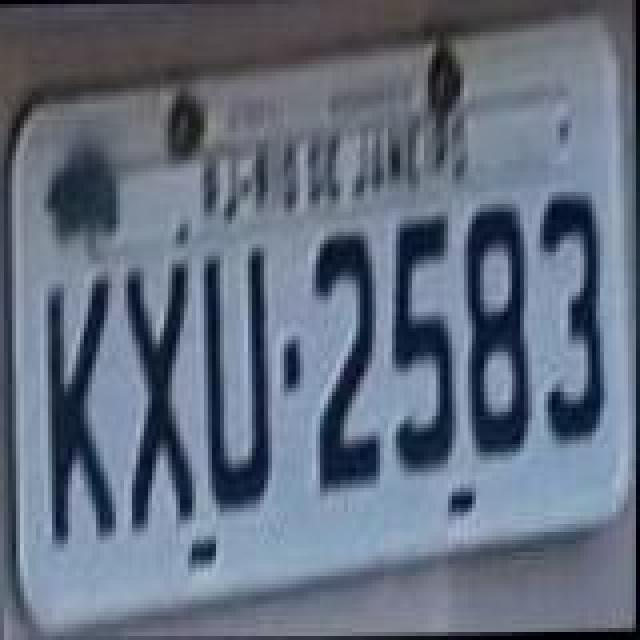2: (310, 232, 382, 500)
3: (538, 194, 610, 446)
5: (388, 210, 456, 470)
8: (462, 204, 534, 456)
K: (42, 274, 118, 550)
U: (200, 242, 276, 510)
X: (122, 254, 198, 534)
